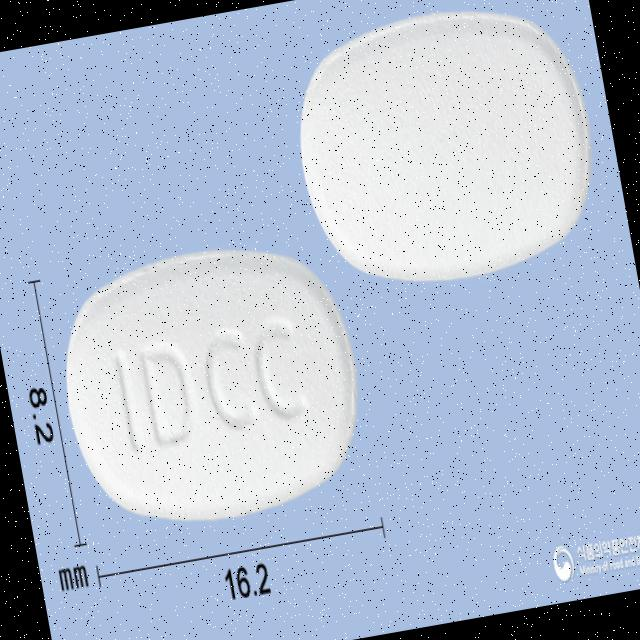Cycin: (44, 222, 380, 544), (277, 0, 610, 305)
